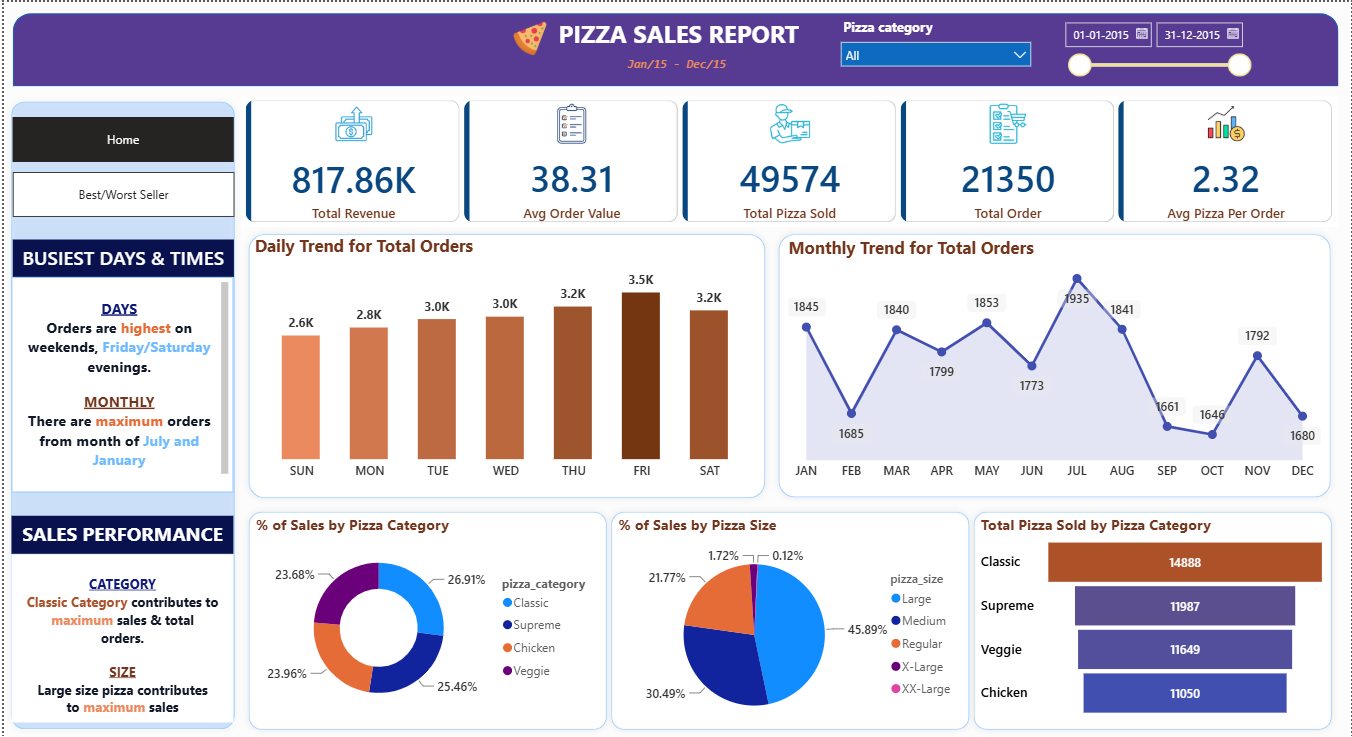

What the dashboard file says about the page in this screenshot:
{"tool":"powerbi","page":{"name":"Home","canvas":[1500,820],"ordinal":0},"visuals":[{"type":"shape","box":[0,103.8,265,715],"z":0},{"type":"textbox","box":[10,265,246.2,41.2],"z":1000},{"type":"cardVisual","fields":{"Data":["pizza_sales_excel_file.Total Revenue","pizza_sales_excel_file.Avg Order Value","pizza_sales_excel_file.Total Pizza Sold","pizza_sales_excel_file.Total Order","pizza_sales_excel_file.Avg Pizza Per Order"]},"box":[264.6,104.5,1221.4,146.2],"z":2000},{"type":"shape","box":[10,12.9,1477.1,81.4],"z":3000},{"type":"textbox","box":[612.9,12.9,292.9,52.9],"z":4000},{"type":"textbox","box":[681.4,54.3,137.1,30],"z":5000},{"type":"image","box":[567.3,17.3,38.2,48.2],"z":6000},{"type":"shape","box":[264.3,250,591.4,310],"z":7000},{"type":"shape","box":[855.1,250.7,630.9,309.2],"z":8000},{"type":"areaChart","title":"Monthly Trend for Total Orders","fields":{"Category":["pizza_sales_excel_file.Order Month"],"Y":["pizza_sales_excel_file.Total Order"]},"box":[869,260.4,603,281.3],"z":9000},{"type":"columnChart","title":"Daily Trend for Total Orders","fields":{"Category":["pizza_sales_excel_file.Order Day"],"Y":["pizza_sales_excel_file.Total Order"]},"box":[275,258.8,570,282.5],"z":10000},{"type":"shape","box":[264.6,559.9,415,259],"z":11000},{"type":"shape","box":[1072.4,559.9,415,259],"z":12000},{"type":"shape","box":[668.5,559.9,415,259],"z":13000},{"type":"donutChart","title":"% of Sales by Pizza Category","fields":{"Category":["pizza_sales_excel_file.pizza_category"],"Y":["pizza_sales_excel_file.Total Revenue"]},"box":[275.7,571.4,392.9,231.4],"z":14000},{"type":"pieChart","title":"% of Sales by Pizza Size","fields":{"Category":["pizza_sales_excel_file.pizza_size"],"Y":["pizza_sales_excel_file.Total Revenue"]},"box":[680,571.4,392.9,247.1],"z":15000},{"type":"funnel","title":"Total Pizza Sold by Pizza Category","fields":{"Category":["pizza_sales_excel_file.pizza_category"],"Y":["pizza_sales_excel_file.Total Pizza Sold"]},"box":[1084.2,571.7,395,230.8],"z":16000},{"type":"textbox","box":[8.8,572.5,247.5,42.5],"z":17000},{"type":"textbox","box":[8.8,306.2,247.5,240],"z":18000},{"type":"textbox","box":[8.8,615,247.5,187.5],"z":19000},{"type":"slicer","fields":{"Values":["pizza_sales_excel_file.pizza_category"]},"box":[922.5,12.5,232.5,81.2],"z":20000},{"type":"slicer","fields":{"Values":["pizza_sales_excel_file.order_date"]},"box":[1170,12.5,227.5,92.5],"z":21000},{"type":"pageNavigator","box":[9.7,128.1,246.5,50.1],"z":21001},{"type":"pageNavigator","box":[9.2,189.2,247.5,50],"z":21002}]}

Visuals, with their boxes in screenshot pixels (x1, y1, x2, y2), scaled from the page's 1500x820 canvas onto the 1352x737 screenshot:
shape: select_region(0, 93, 239, 736)
textbox: select_region(9, 238, 231, 275)
cardVisual - pizza_sales_excel_file.Total Revenue x pizza_sales_excel_file.Avg Order Value: select_region(238, 94, 1339, 225)
shape: select_region(9, 12, 1340, 85)
textbox: select_region(552, 12, 816, 59)
textbox: select_region(614, 49, 738, 76)
image: select_region(511, 16, 546, 59)
shape: select_region(238, 225, 771, 503)
shape: select_region(771, 225, 1339, 503)
"Monthly Trend for Total Orders" areaChart: select_region(783, 234, 1327, 487)
"Daily Trend for Total Orders" columnChart: select_region(248, 233, 762, 487)
shape: select_region(238, 503, 613, 736)
shape: select_region(967, 503, 1341, 736)
shape: select_region(603, 503, 977, 736)
"% of Sales by Pizza Category" donutChart: select_region(248, 514, 603, 722)
"% of Sales by Pizza Size" pieChart: select_region(613, 514, 967, 736)
"Total Pizza Sold by Pizza Category" funnel: select_region(977, 514, 1333, 721)
textbox: select_region(8, 515, 231, 553)
textbox: select_region(8, 275, 231, 491)
textbox: select_region(8, 553, 231, 721)
slicer - pizza_sales_excel_file.pizza_category: select_region(831, 11, 1041, 84)
slicer - pizza_sales_excel_file.order_date: select_region(1055, 11, 1260, 94)
pageNavigator: select_region(9, 115, 231, 160)
pageNavigator: select_region(8, 170, 231, 215)
